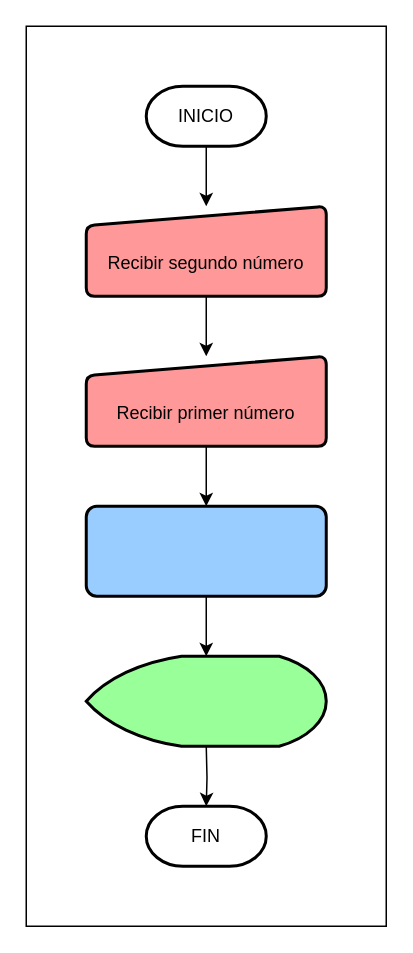
Image size: 413x953. Some labels were removed from this diagram. Here are the shapes that lost their labels. From the top down, the centre of each, then its label:
At (205,550): "Calcular la suma de ambos números".
At (205,700): "Mostrar la suma".
